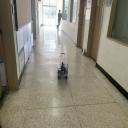cart: (58, 64, 68, 80)
